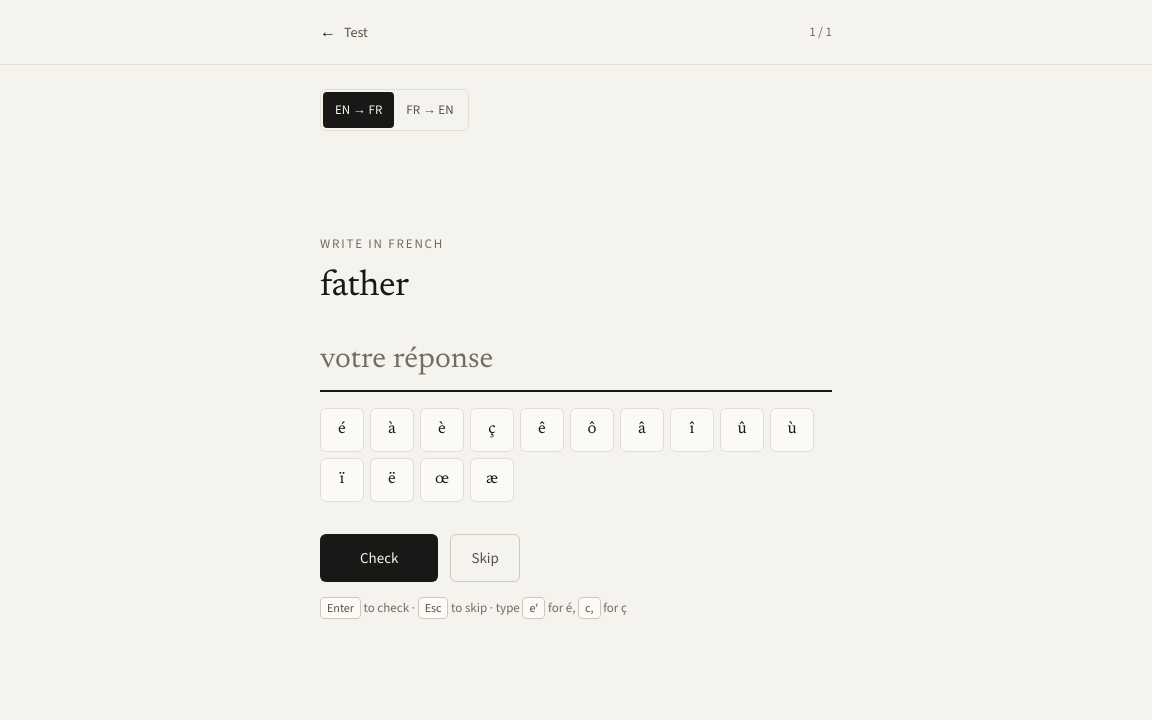
Test: Quiz › skipping reveals the answer and counts as wrong
Expected: the field named "your answer" is shown, [320,342,832,392]
Click the button "Skip" at {"x": 485, "y": 558}, box [450,534,520,582]
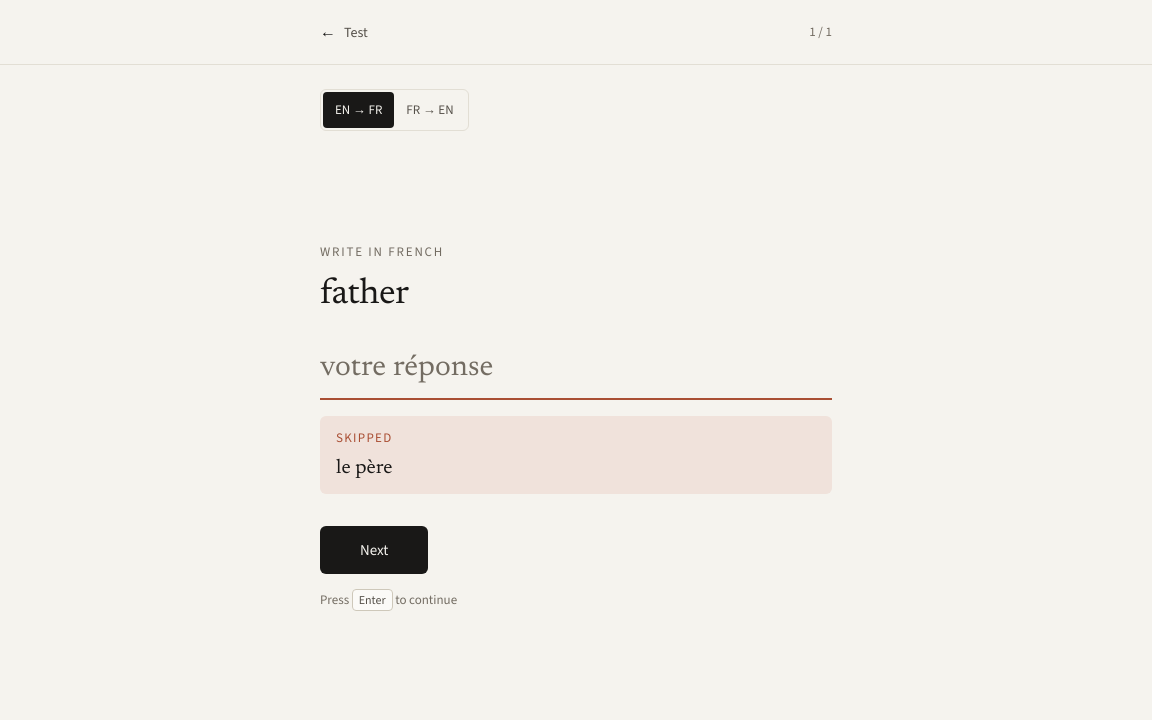
Now the text "Skipped" is shown, box [336,429,393,446]
Click the button "Next" at {"x": 374, "y": 550}, box [320,526,428,574]
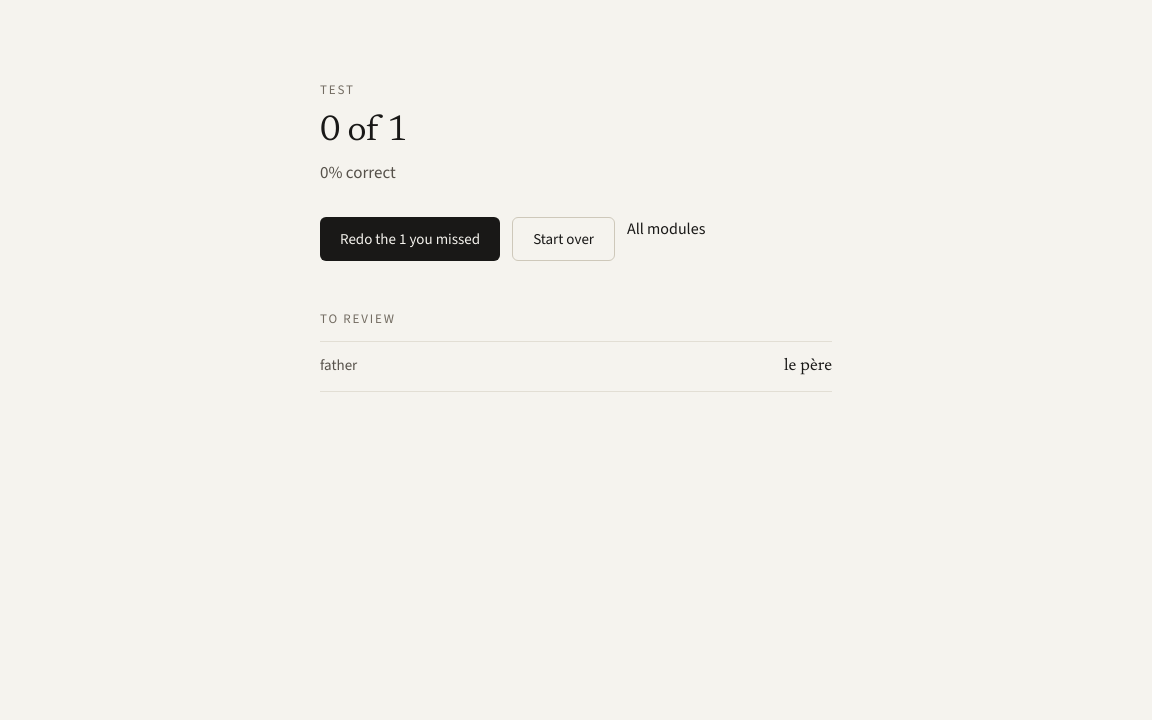
Now the heading "0 of 1" is shown, box [320,114,407,150]
